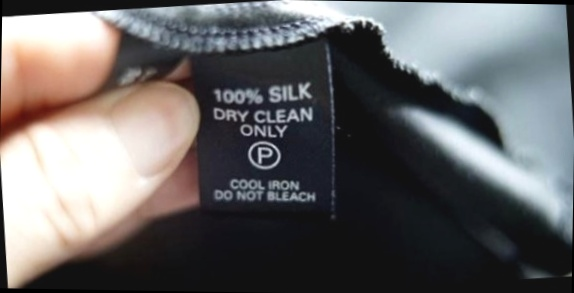dry_clean_any_solvent_except_trichloroethylene: (247, 138, 284, 171)
